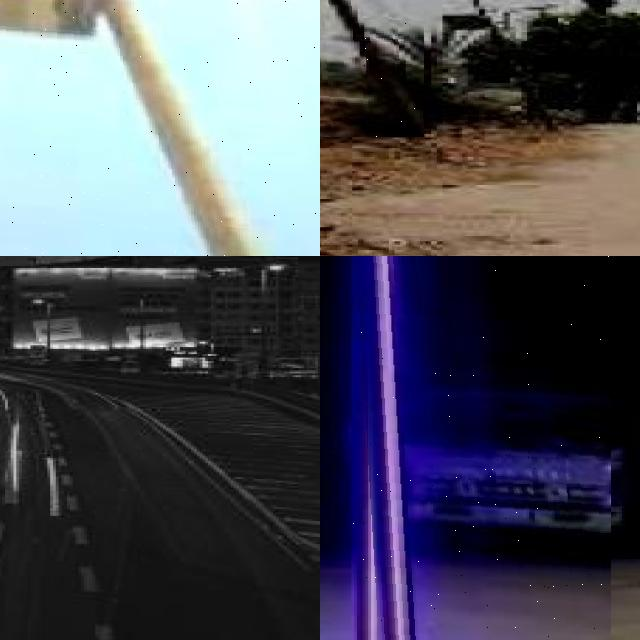street light: (351, 256, 610, 640), (0, 0, 320, 256), (320, 0, 424, 136), (262, 266, 287, 386), (33, 300, 53, 364)
